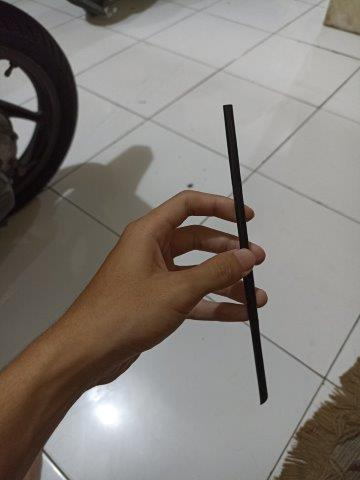sedotan: (222, 105, 269, 404)
